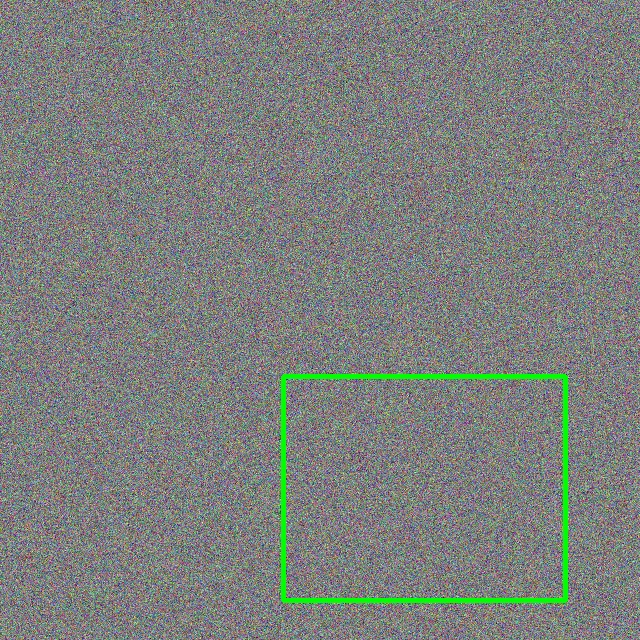base: (283, 376, 565, 600)
